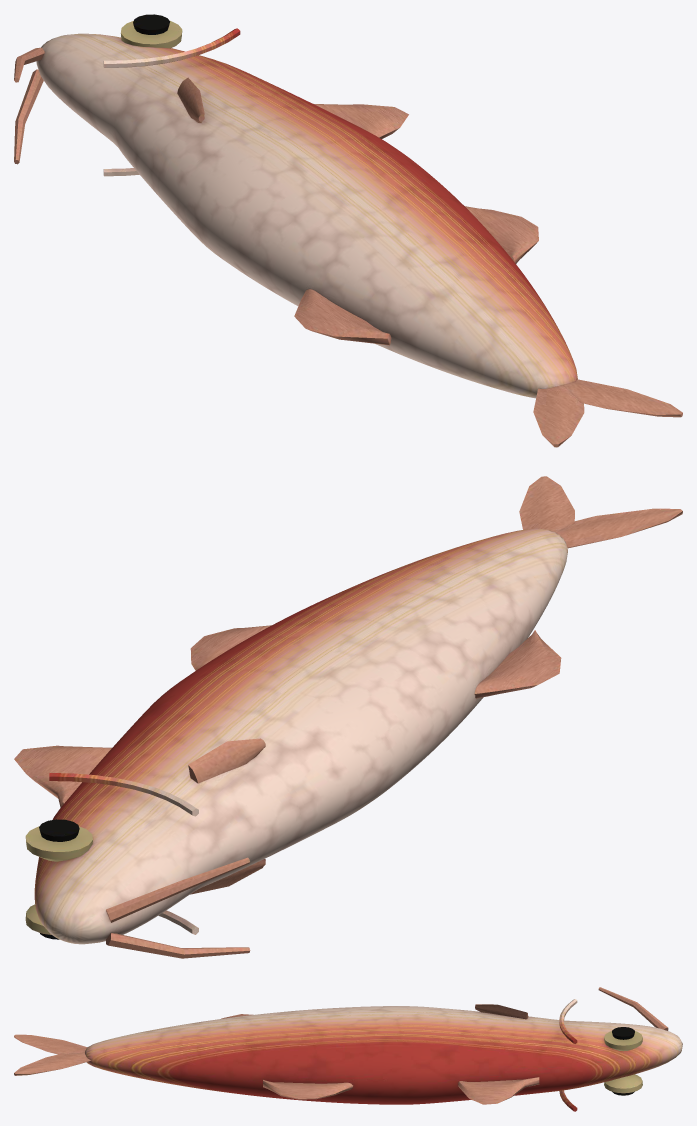
The model's file is fish_barabulka.glb.
The picture shows the model from 3 angles, top to bottom: view 1: azimuth 30°, elevation 25°; view 2: azimuth 150°, elevation 25°; view 3: azimuth 270°, elevation 25°; orthographic projection. The views are drawn at different scales.
Parts seen in each view (by area): view 1: fish_barabulka; view 2: fish_barabulka; view 3: fish_barabulka.
Boxes of the visible parts, x1=… form: fish_barabulka: x1=14, y1=14, x2=682, y2=447; fish_barabulka: x1=14, y1=476, x2=682, y2=958; fish_barabulka: x1=14, y1=987, x2=682, y2=1111.
Size of the model in its own units: 0.0616 by 0.0256 by 0.1893.
Materials: 1 (1 with a texture image).
